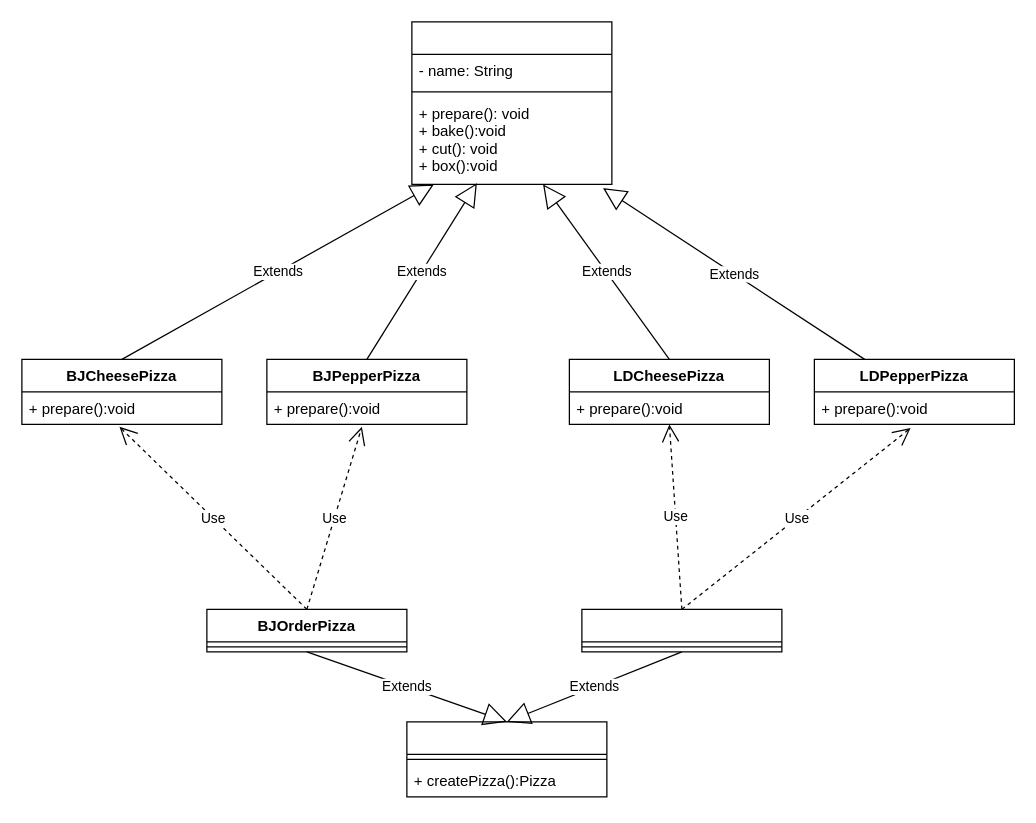
This 1036x823 diagram has some shape labels left out. Each missing label, with the box of its shape:
LDOrderPizza: (581, 608, 782, 652)
OrderPizza: (406, 721, 607, 797)
Pizza: (411, 21, 612, 184)
